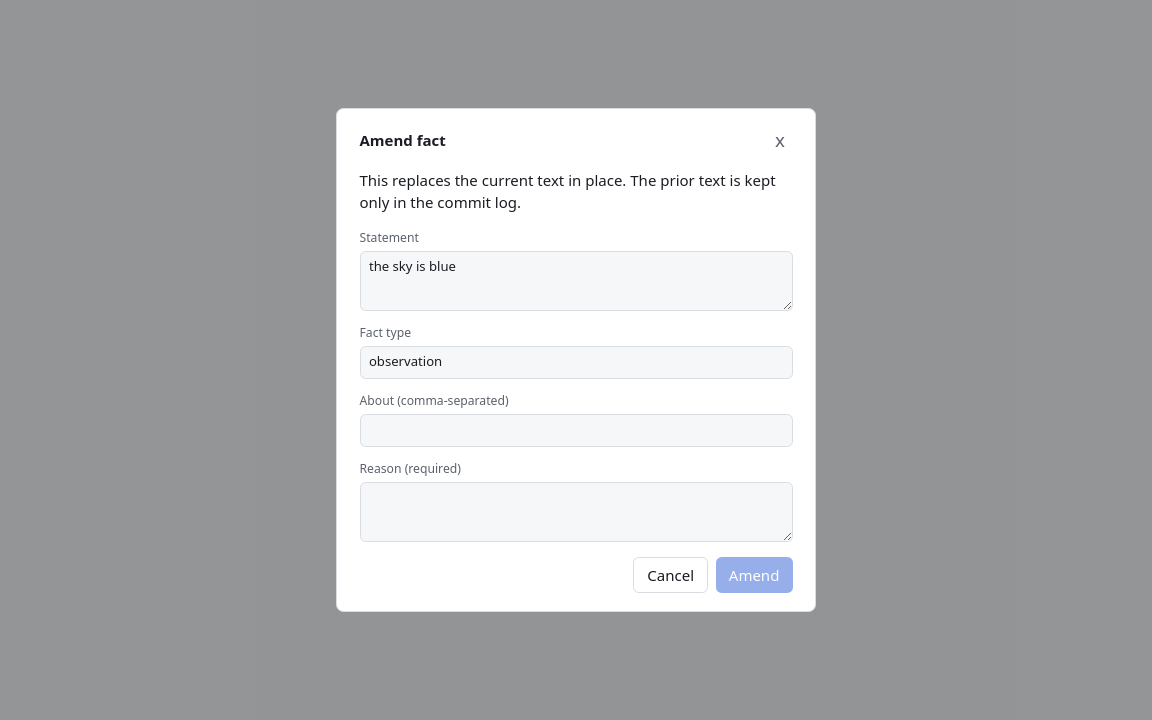
Test: Amend and supersede dialogs › Amend reads as 'correct this entry' and disables submit until a reason is typed
expect the text "replaces the current text in place" is shown: met, box [360,170,776,212]
expect the button "Amend" is disabled: met, box [716,557,792,593]
In the text box labelled "Reason (required)": (576, 512) [360,482,792,542], type "typo fix"
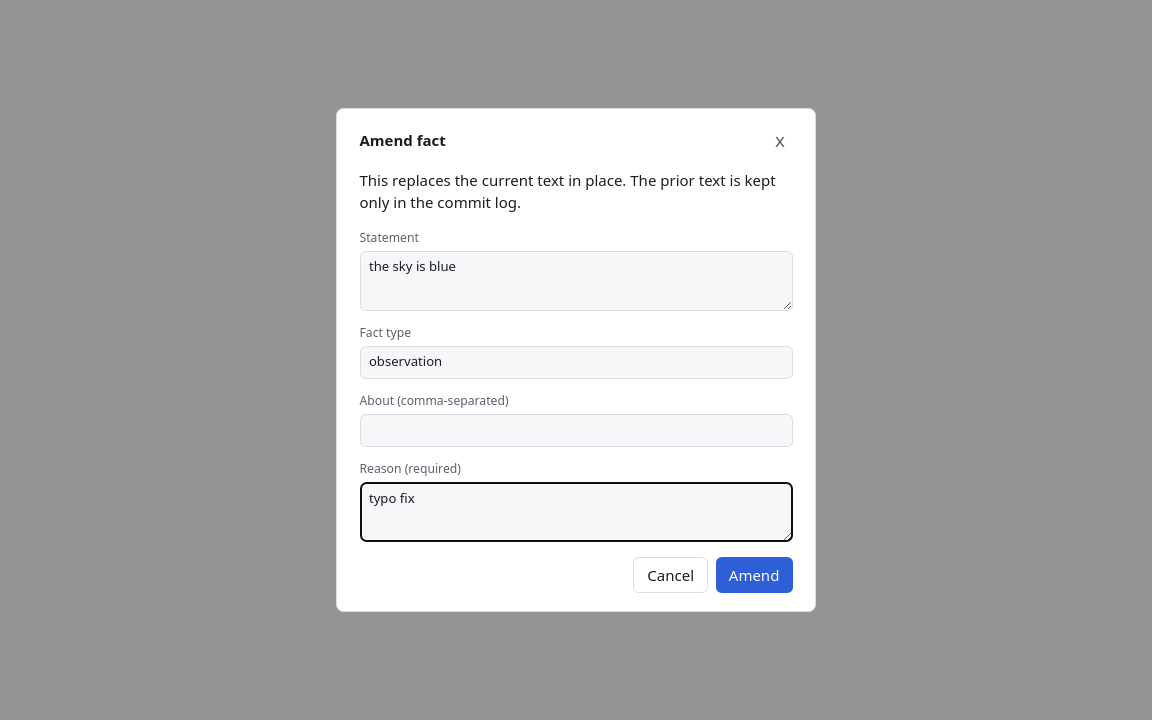
expect the button "Amend" is enabled: met, box [716,557,792,593]
